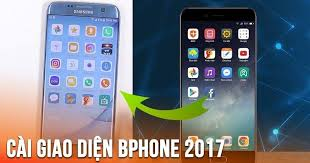bphone: (176, 6, 260, 154)
samsung: (37, 1, 121, 148)
